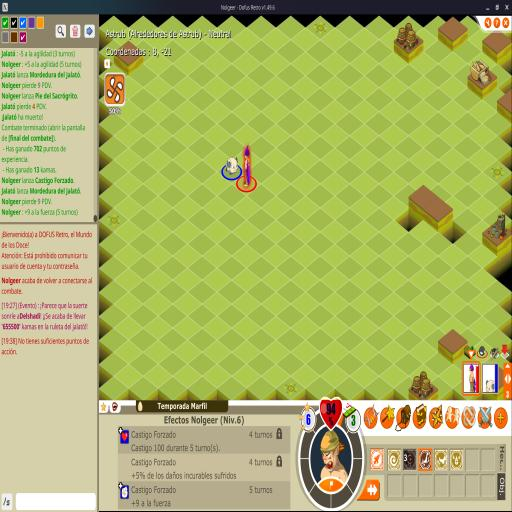Enemigos: (226, 156, 238, 176)
Personaje: (243, 144, 251, 187)
